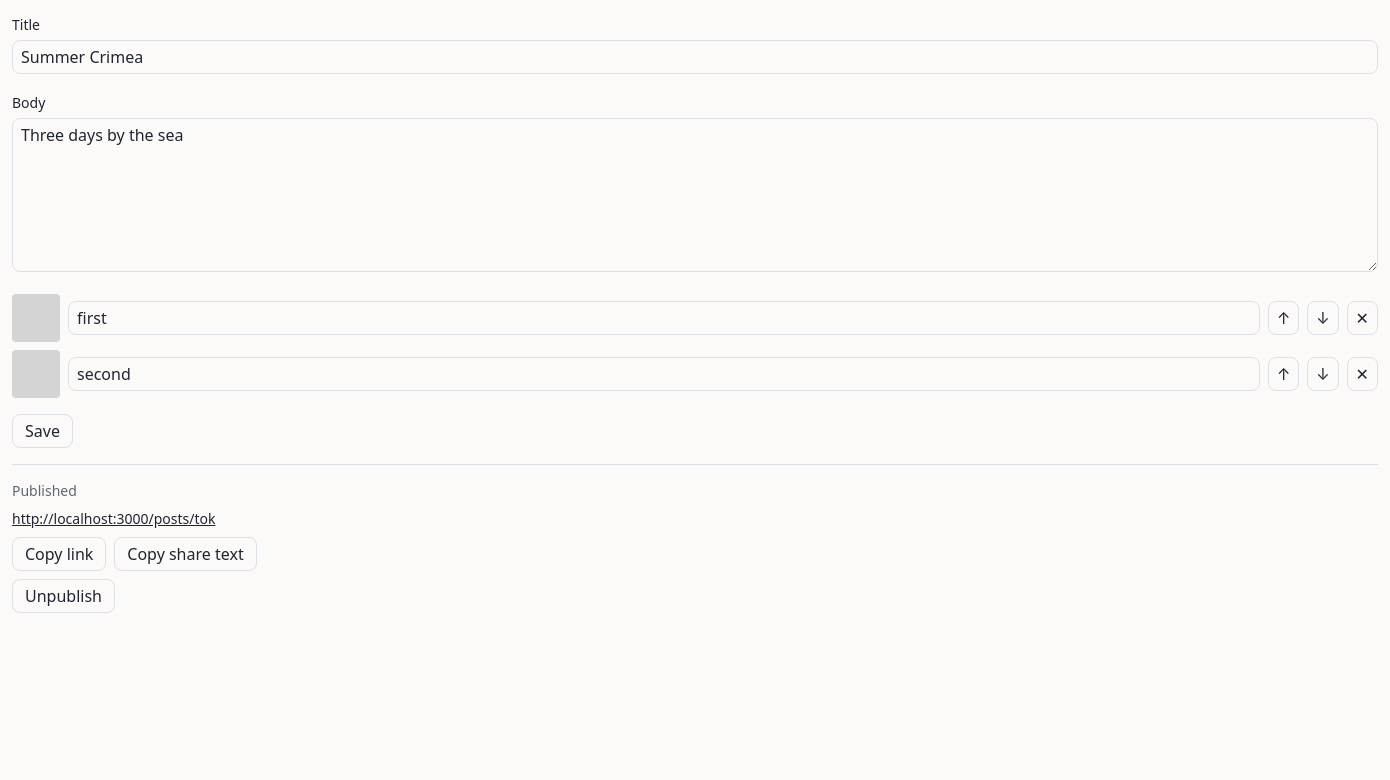
it: PostEditor share (published) › shows "Copy failed" when the clipboard write is rejected
The image size is (1390, 780).
Click the button "Copy link": (59, 554) [12, 537, 106, 571]
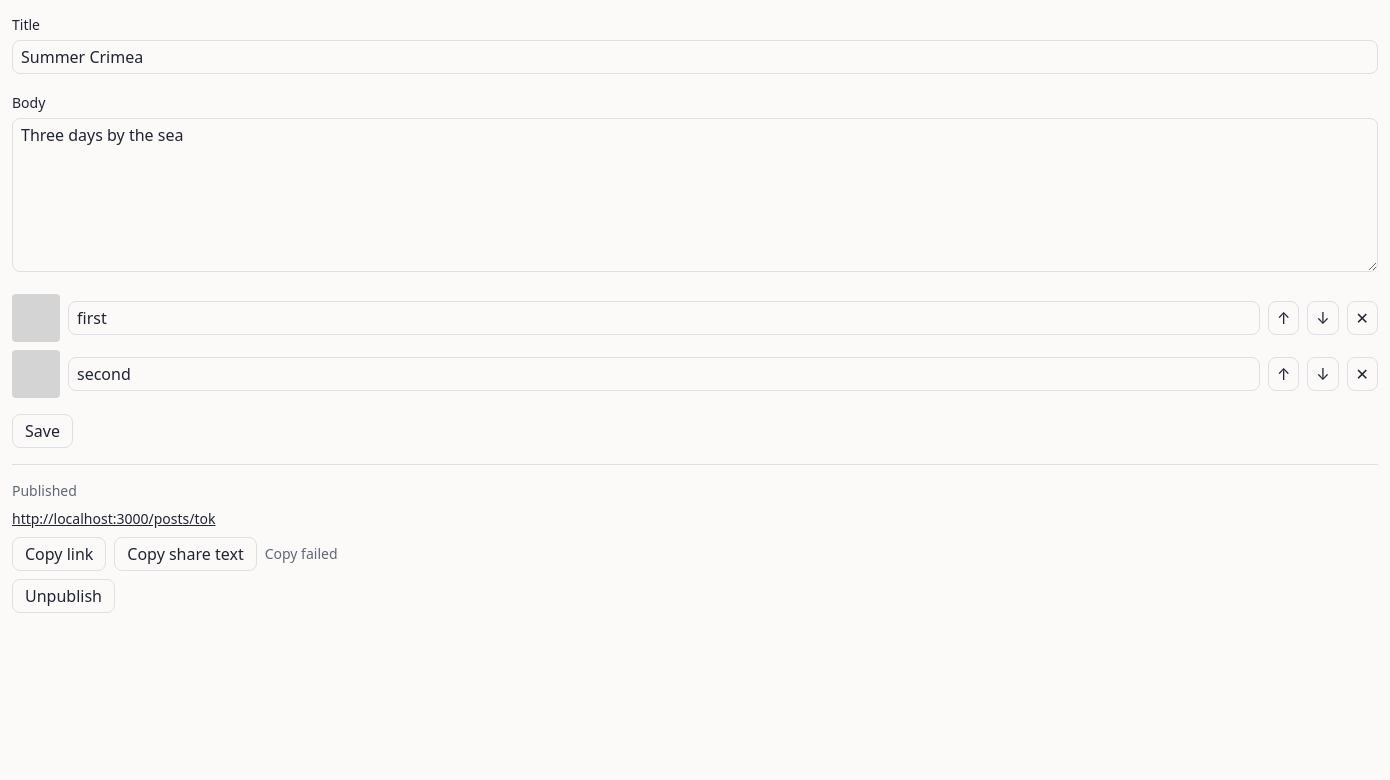
Expected: the text "Copy failed" is shown, [265, 544, 338, 564]
